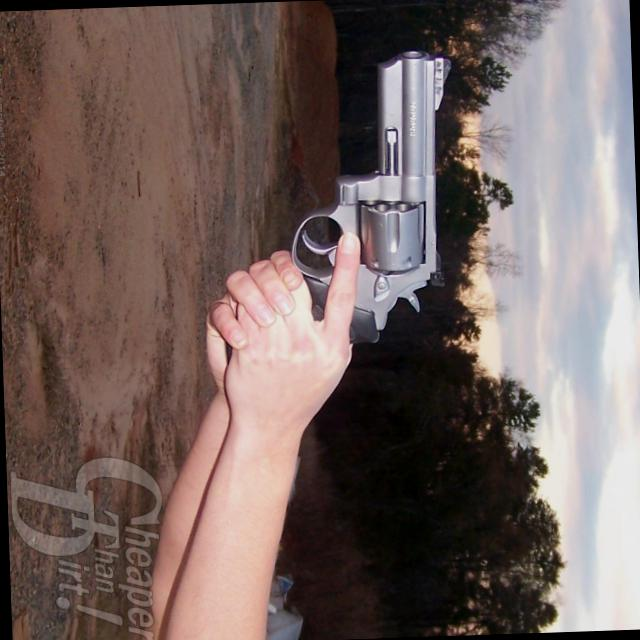handgun: (208, 36, 464, 370)
